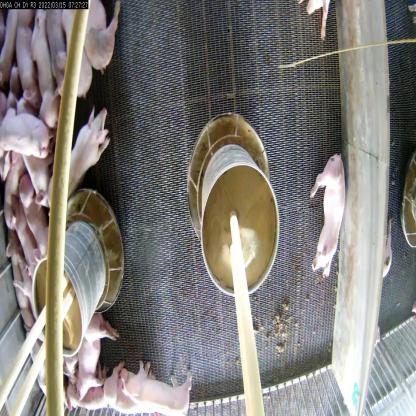Pig: (42, 111, 106, 199), (309, 157, 348, 288), (63, 314, 113, 411), (61, 0, 125, 72), (115, 362, 189, 415), (0, 111, 46, 170), (92, 376, 146, 415), (15, 192, 44, 244)
